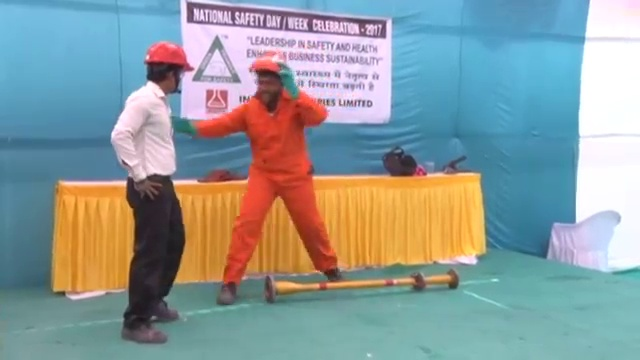helmet: (144, 40, 194, 73), (249, 51, 290, 76)
helmet_on: (141, 40, 196, 96), (247, 51, 289, 111)
person: (183, 48, 347, 308), (107, 37, 190, 346)
